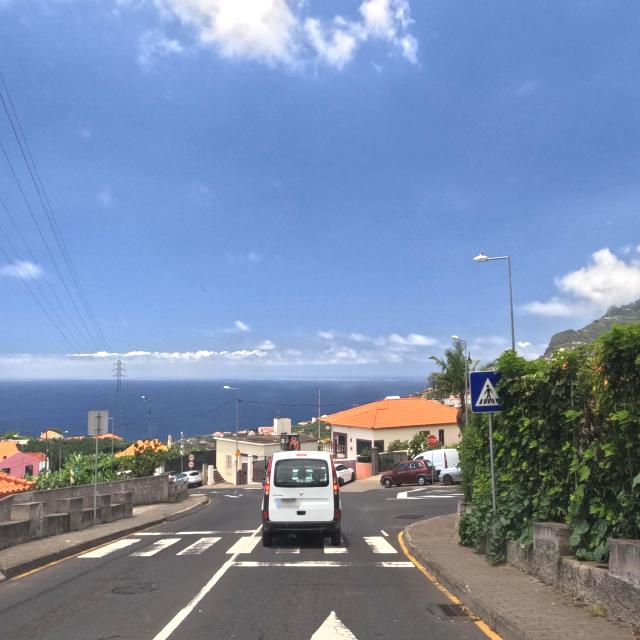car: (260, 449, 342, 547), (413, 447, 461, 484), (379, 460, 437, 488), (333, 463, 355, 485), (182, 470, 203, 488)
